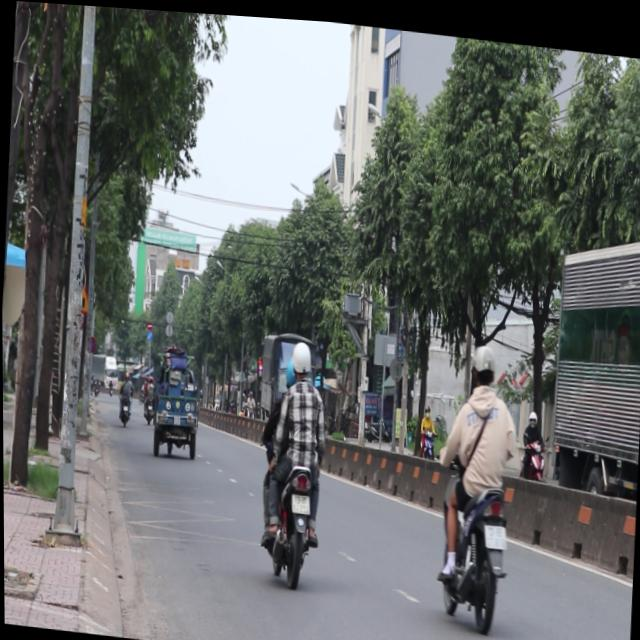helmet: (468, 334, 499, 387), (291, 336, 314, 375)
licenseplate: (429, 330, 523, 628), (252, 332, 333, 585)
nohelmet: (483, 517, 508, 542), (291, 489, 311, 510)
